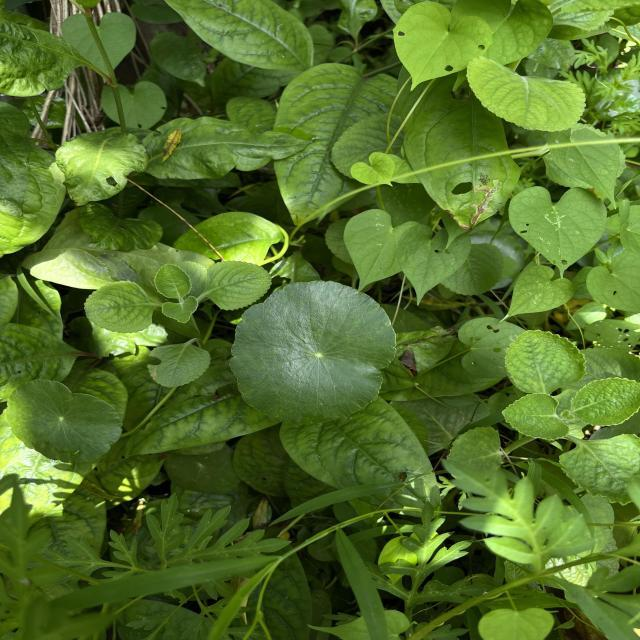Bacopa monnieri: (226, 279, 399, 426), (3, 376, 126, 465)
